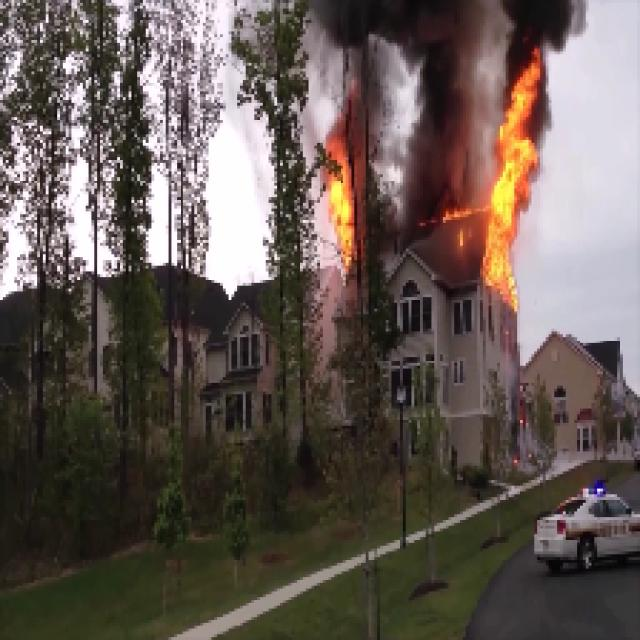fire: (482, 55, 547, 312), (319, 150, 364, 273)
smoke: (312, 5, 477, 140), (374, 148, 476, 270)
